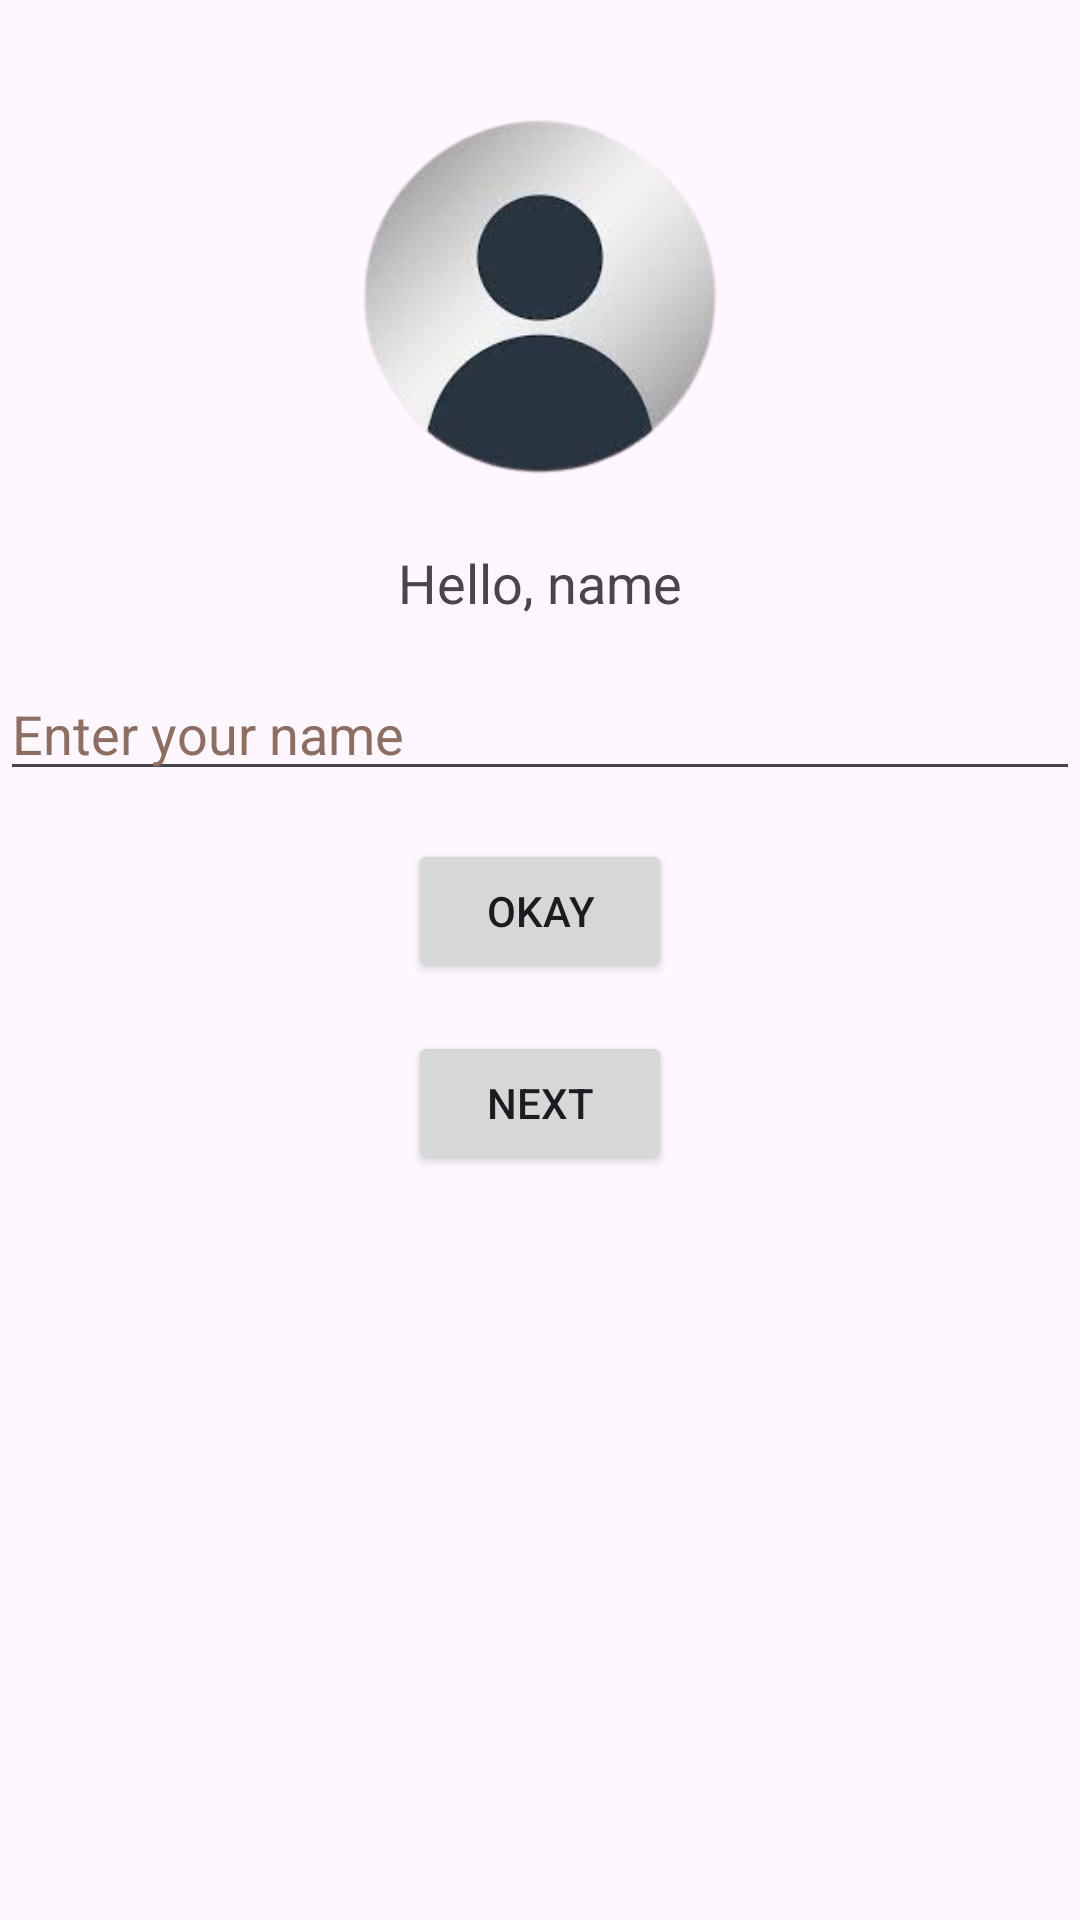

Point at icon controls on the screen. Image size 1080 × 1920, points as [x,y].
Profile Image: [540,297]
